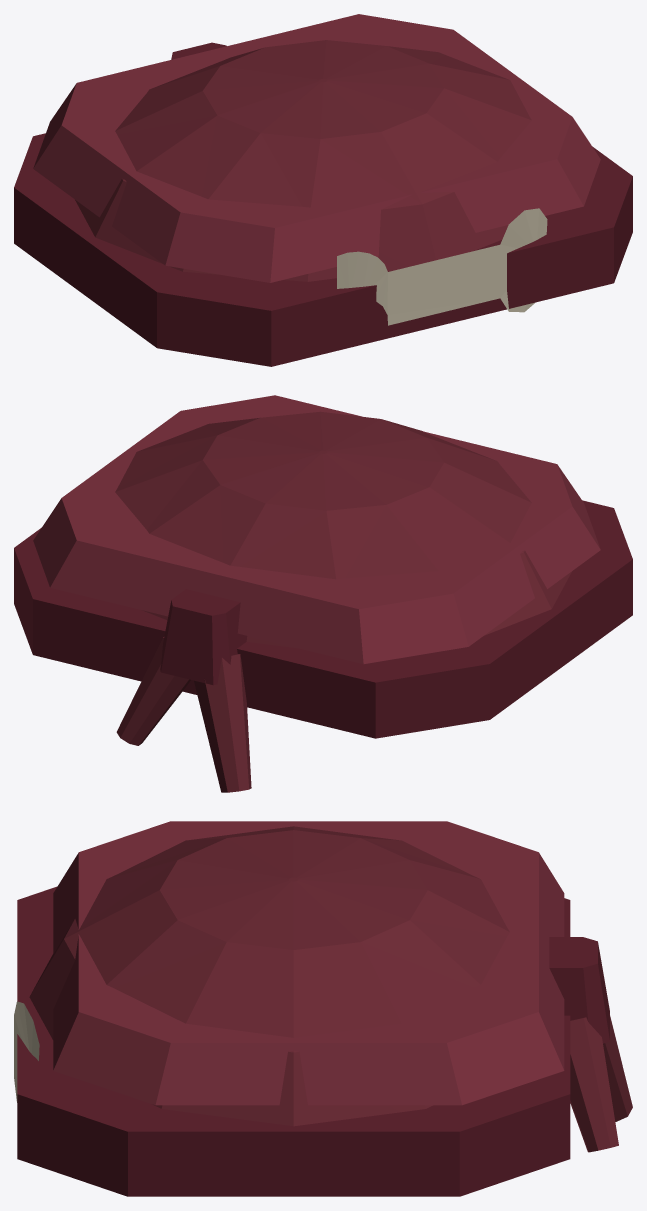
Rendered from bonewrap.glb.
3 views of the same model, one above another, from view 1: azimuth 30°, elevation 25°; view 2: azimuth 150°, elevation 25°; view 3: azimuth 270°, elevation 25° (orthographic). The views are drawn at different scales.
Parts seen in each view (by area): view 1: Bone-Button Wrap.002; view 2: Bone-Button Wrap.002; view 3: Bone-Button Wrap.002.
Part boxes in pixels (left/top/right/bottom): Bone-Button Wrap.002: left=14, top=14, right=632, bottom=366; Bone-Button Wrap.002: left=14, top=395, right=632, bottom=792; Bone-Button Wrap.002: left=14, top=821, right=632, bottom=1196.
Bounding box in the file's own units: 0.6932 × 0.319 × 0.6732.
